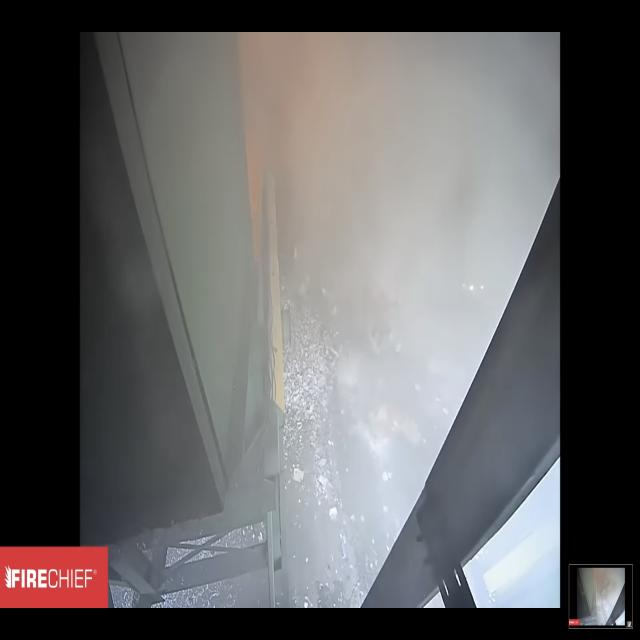Atencao: (149, 34, 560, 464)
